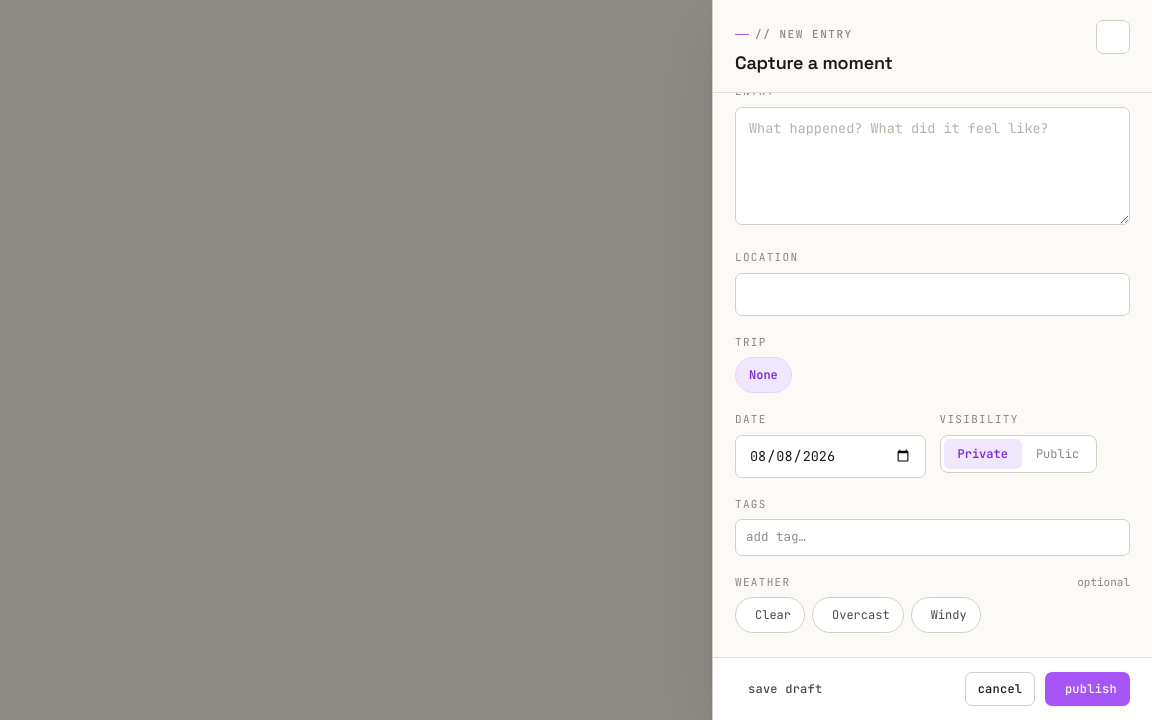
Test: AppNewEntry › adds a tag when enter is pressed in the tag input
This screenshot has width=1152, height=720.
(page scrolled)
Type "adventure" into the field with placeholder "add tag…" at (932, 538), box [746, 528, 1119, 547]
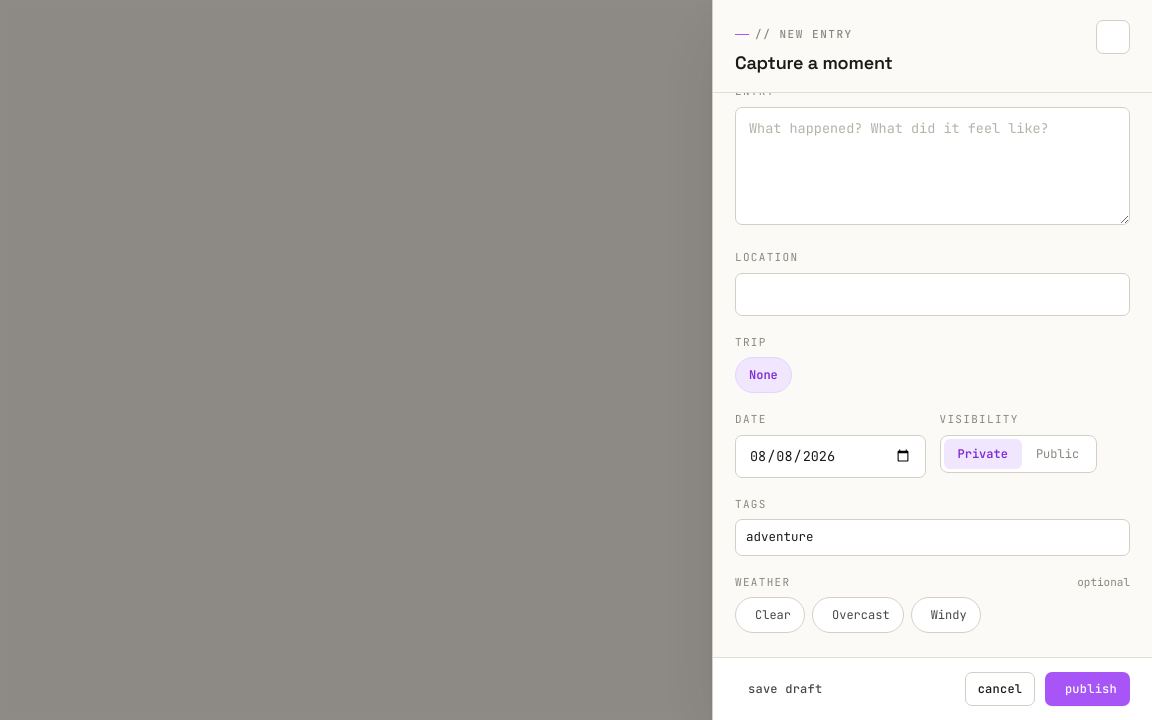
Press Enter in the field below "Tags", box [746, 528, 1119, 547]
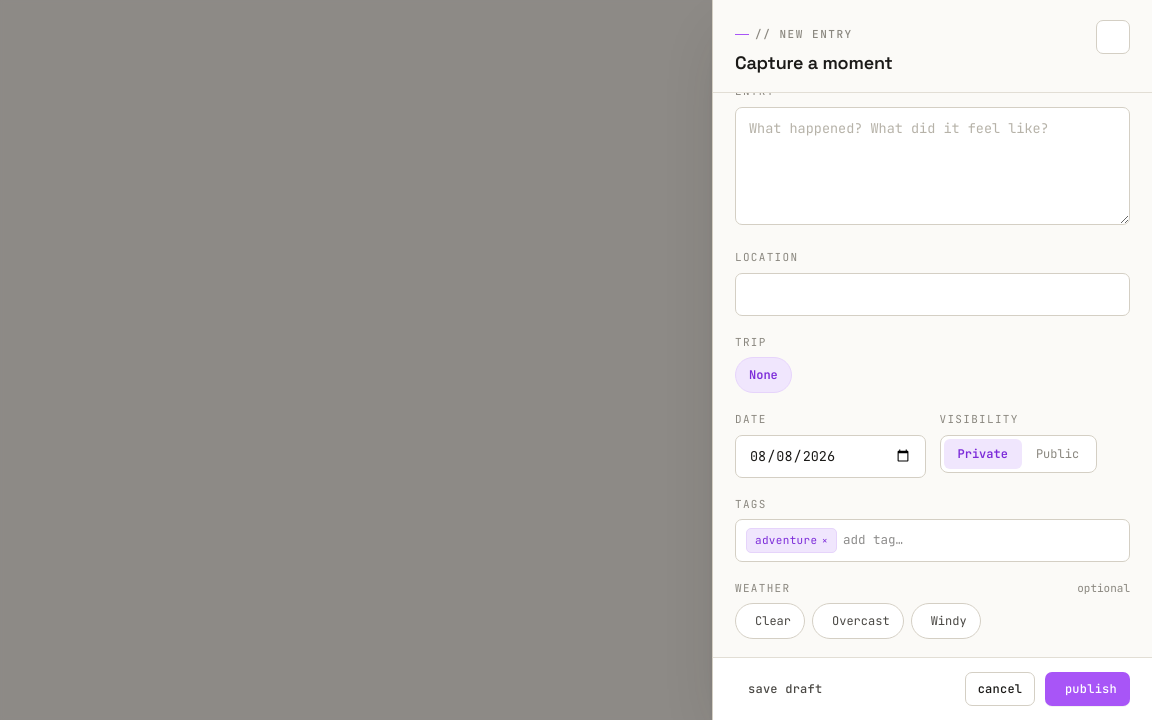
Expected: the element with class "tags-input" shows "adventure", [755, 533, 817, 547]
